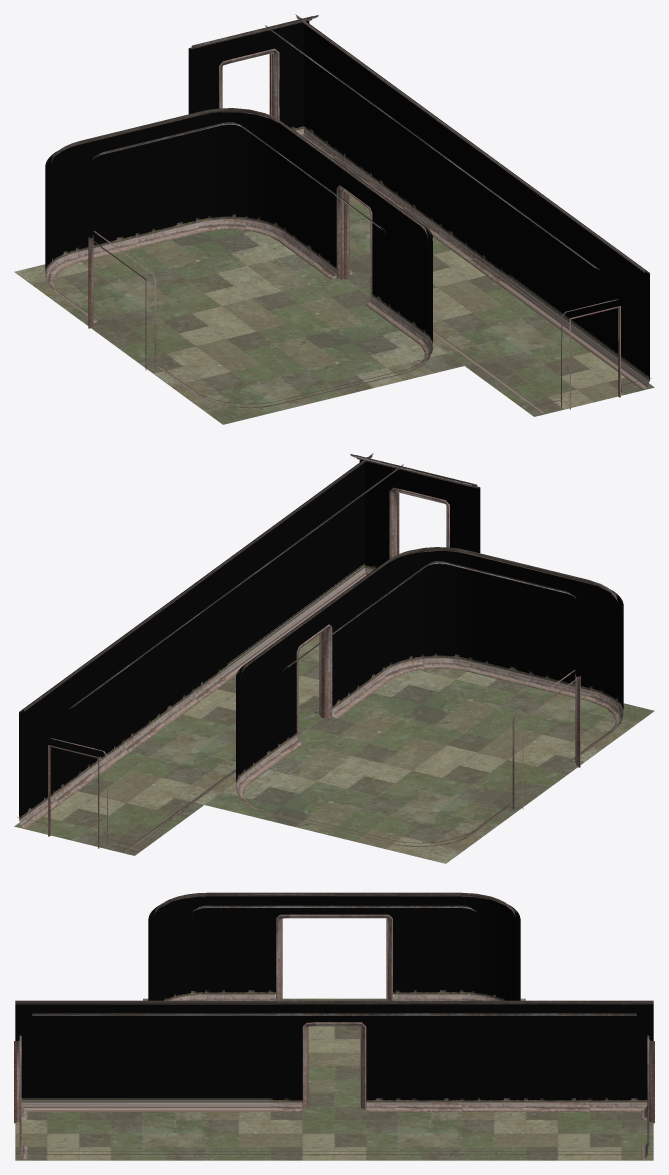
The model's file is bunker.room.15.aa.glb.
The picture shows the model from 3 angles, top to bottom: view 1: azimuth 30°, elevation 25°; view 2: azimuth 150°, elevation 25°; view 3: azimuth 270°, elevation 25°; orthographic projection. The views are drawn at different scales.
Parts seen in each view (by area): view 1: bunker.room.15.aa; view 2: bunker.room.15.aa; view 3: bunker.room.15.aa.
Boxes of the visible parts, box(x1,y1,x2,y2) form: bunker.room.15.aa: box(14, 14, 654, 424); bunker.room.15.aa: box(14, 453, 654, 863); bunker.room.15.aa: box(14, 892, 654, 1160).
Bounding box in the file's own units: 9.03 × 3.02 × 15.06.
Materials: 4 (4 with a texture image).
